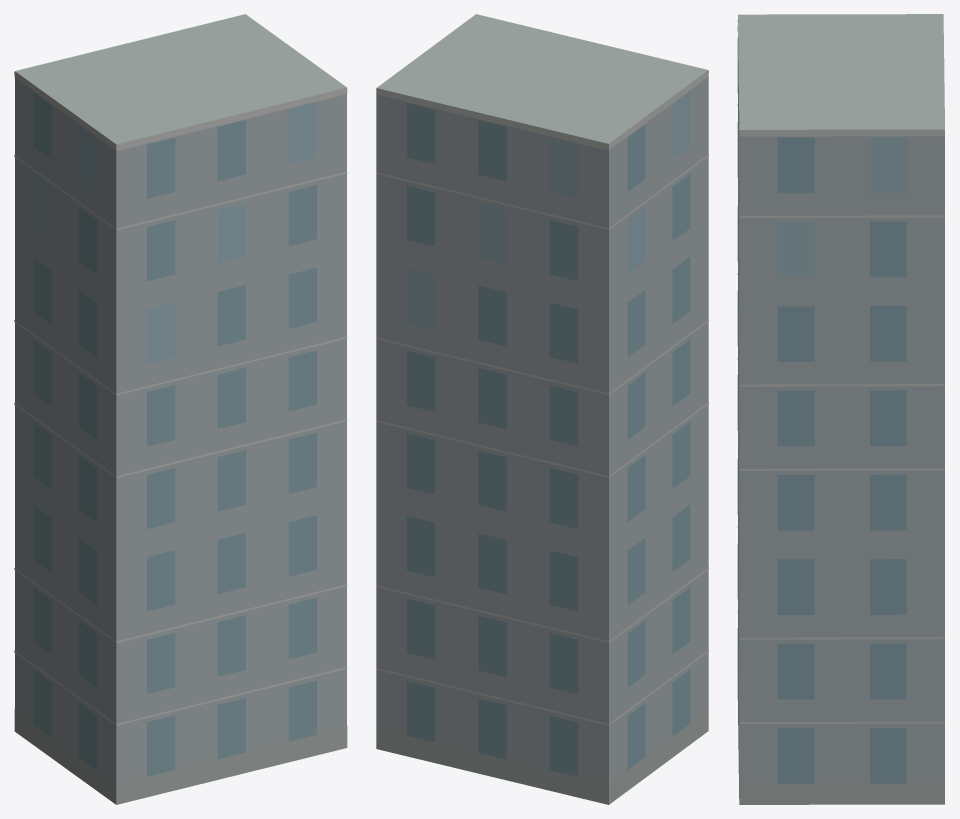
Rendered from survey-upis-32720808.glb.
3 renders of one model, left to right at view 1: azimuth 30°, elevation 25°; view 2: azimuth 150°, elevation 25°; view 3: azimuth 270°, elevation 25°, orthographic. The views are drawn at different scales.
Parts seen in each view (by area): view 1: survey-upis-32720808.tmp; view 2: survey-upis-32720808.tmp; view 3: survey-upis-32720808.tmp.
Boxes of the visible parts, <box> form: survey-upis-32720808.tmp: <box>14,14,347,804</box>; survey-upis-32720808.tmp: <box>376,14,708,804</box>; survey-upis-32720808.tmp: <box>737,14,944,804</box>.
Size of the model in its own units: 9.02 by 24.4 by 6.82.
